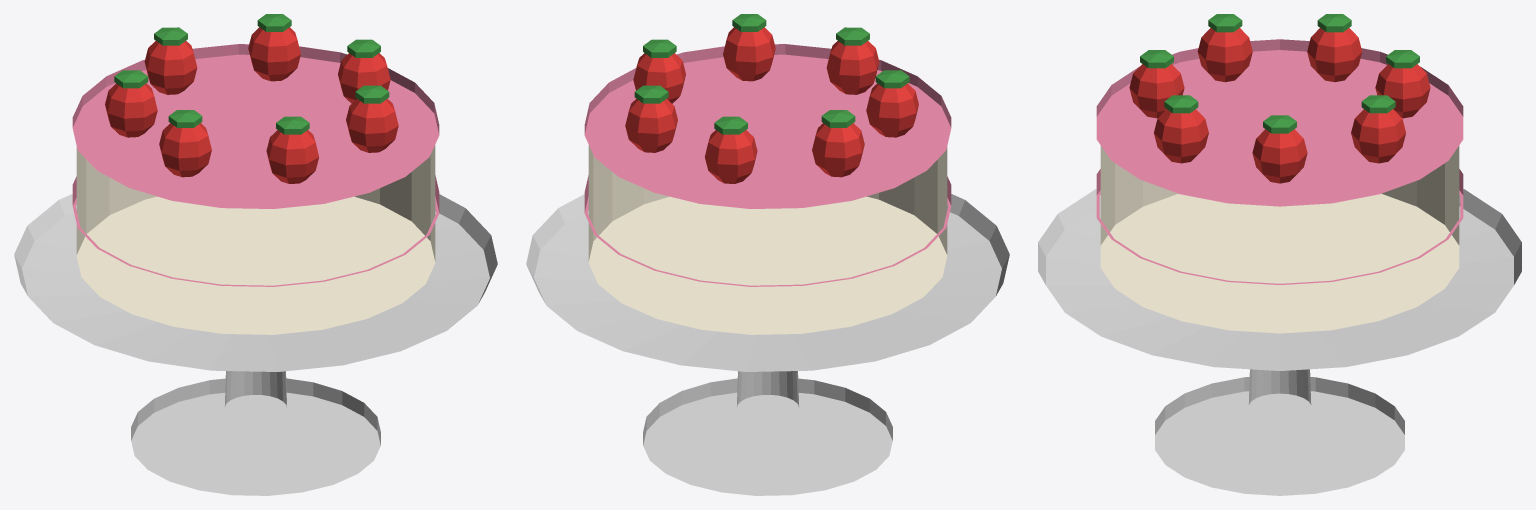
The model's file is tartfat.glb.
The picture shows the model from 3 angles, left to right: view 1: azimuth 30°, elevation 25°; view 2: azimuth 150°, elevation 25°; view 3: azimuth 270°, elevation 25°; orthographic projection.
Parts seen in each view (by area): view 1: tartfat; view 2: tartfat; view 3: tartfat.
Boxes of the visible parts, box(x1,y1,x2,y2) form: tartfat: box(14, 14, 497, 495); tartfat: box(526, 14, 1009, 495); tartfat: box(1038, 14, 1521, 495).
Bounding box in the file's own units: 0.62 × 0.528 × 0.6137.
